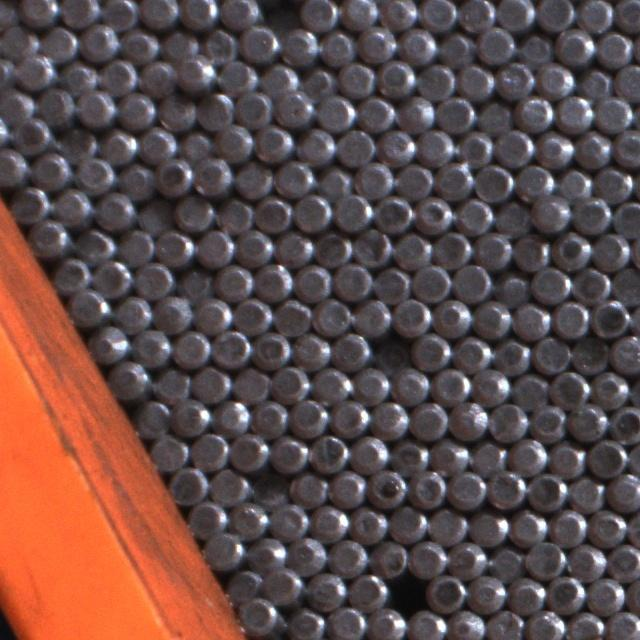tool: (30, 147, 72, 189), (236, 595, 279, 636), (27, 215, 69, 256), (52, 185, 93, 226), (108, 359, 149, 400), (366, 466, 406, 507), (8, 182, 48, 223), (332, 190, 372, 230), (387, 503, 427, 543), (354, 158, 394, 198), (94, 190, 134, 230), (228, 430, 268, 470), (75, 86, 115, 126), (425, 572, 465, 612), (524, 538, 564, 578), (50, 254, 90, 294), (131, 326, 171, 366), (238, 22, 278, 62), (130, 397, 170, 437), (168, 464, 208, 504), (88, 323, 128, 363), (308, 433, 348, 472), (486, 468, 525, 508), (428, 506, 467, 546), (234, 158, 273, 198), (211, 328, 250, 368), (157, 92, 196, 132), (328, 536, 367, 576), (311, 364, 350, 404), (134, 258, 173, 298), (252, 328, 291, 368), (529, 402, 568, 442), (151, 364, 190, 404), (306, 570, 345, 610), (75, 154, 115, 193), (452, 261, 491, 301), (408, 538, 447, 578), (233, 295, 273, 334), (253, 192, 292, 232), (586, 438, 626, 477), (289, 396, 328, 436), (586, 574, 625, 614), (408, 468, 447, 508), (116, 89, 155, 129), (329, 396, 369, 435), (332, 260, 372, 299), (526, 470, 565, 510), (432, 228, 472, 267), (189, 430, 228, 470), (253, 260, 292, 300), (530, 192, 570, 231), (112, 292, 151, 332), (488, 401, 528, 440), (292, 330, 331, 370), (352, 228, 391, 268), (376, 58, 415, 98), (431, 296, 470, 336), (446, 539, 486, 578), (392, 295, 431, 335), (269, 433, 308, 473), (571, 194, 611, 233), (373, 192, 412, 232), (570, 335, 609, 375), (193, 156, 233, 195), (74, 226, 114, 265), (447, 468, 486, 508), (295, 126, 334, 166), (551, 297, 590, 337), (369, 538, 408, 578), (194, 227, 233, 267), (170, 396, 210, 435), (358, 22, 397, 62), (192, 295, 232, 334), (153, 292, 192, 332), (347, 571, 387, 610), (217, 56, 256, 96), (185, 498, 225, 537), (174, 192, 213, 232), (263, 565, 302, 605), (79, 21, 119, 60), (70, 287, 110, 326), (274, 87, 314, 126), (572, 265, 612, 304), (550, 368, 590, 407), (14, 114, 54, 153), (253, 473, 292, 513), (412, 331, 451, 370), (432, 365, 471, 404), (508, 507, 547, 546), (591, 231, 630, 270), (315, 92, 354, 131), (352, 363, 391, 402), (554, 26, 593, 65), (332, 330, 371, 369), (292, 191, 331, 230), (437, 93, 476, 132), (349, 433, 388, 472), (551, 230, 590, 269), (476, 25, 515, 64), (209, 467, 248, 506), (336, 127, 375, 166), (534, 129, 573, 168), (554, 92, 593, 131), (270, 363, 309, 402), (352, 296, 391, 335), (279, 27, 318, 66), (287, 535, 326, 574), (250, 397, 289, 436), (473, 162, 512, 201), (370, 399, 409, 438), (148, 432, 187, 471), (472, 299, 511, 338), (191, 363, 230, 402), (468, 437, 507, 476), (414, 194, 453, 233), (493, 128, 532, 167), (449, 400, 488, 439), (116, 160, 155, 199), (36, 85, 75, 124), (154, 227, 193, 266), (590, 299, 629, 338), (394, 160, 433, 199), (38, 23, 77, 62), (389, 436, 428, 475), (530, 264, 570, 302), (508, 436, 548, 474), (273, 158, 313, 196), (468, 508, 506, 548), (172, 328, 210, 368), (391, 364, 429, 404), (204, 530, 242, 570), (175, 53, 215, 91), (196, 90, 234, 130), (428, 437, 468, 475), (253, 122, 293, 160), (547, 438, 585, 478), (92, 258, 132, 296), (567, 540, 605, 580), (417, 60, 455, 100), (58, 123, 98, 161), (511, 231, 550, 269), (337, 58, 375, 97), (532, 334, 571, 372), (594, 93, 632, 132), (514, 162, 552, 201), (548, 508, 587, 546), (591, 369, 629, 408), (594, 29, 632, 68), (312, 296, 351, 334), (467, 572, 505, 611), (356, 93, 395, 131), (328, 468, 366, 507), (377, 126, 416, 164), (452, 333, 491, 371), (535, 59, 573, 98), (473, 230, 512, 268), (434, 160, 472, 199), (416, 127, 454, 166), (234, 226, 272, 265), (409, 400, 448, 438), (232, 364, 270, 403), (472, 366, 511, 404), (392, 231, 431, 269), (274, 296, 312, 335), (594, 163, 632, 202), (214, 195, 253, 233), (398, 26, 436, 65), (214, 261, 252, 300), (548, 573, 586, 612), (314, 229, 352, 268), (98, 56, 136, 95), (506, 575, 545, 613), (348, 504, 386, 543), (97, 127, 136, 165), (318, 28, 356, 67), (568, 402, 606, 441), (455, 128, 494, 166), (199, 27, 237, 66), (396, 93, 434, 132), (229, 498, 268, 536), (259, 62, 298, 100), (269, 501, 308, 539), (292, 261, 330, 300), (574, 64, 613, 102), (314, 162, 352, 201), (492, 335, 530, 374), (371, 264, 410, 302), (247, 532, 286, 570), (16, 50, 55, 88), (387, 572, 426, 610), (588, 508, 626, 546), (436, 28, 474, 66), (515, 92, 553, 130), (234, 88, 272, 126), (412, 262, 450, 300), (568, 473, 606, 511), (456, 61, 494, 99), (290, 468, 328, 506), (496, 60, 534, 98), (574, 130, 612, 168), (212, 396, 250, 434), (155, 157, 193, 195), (554, 165, 592, 203), (274, 228, 312, 266), (455, 195, 493, 233), (515, 29, 553, 67), (511, 301, 549, 339), (309, 502, 347, 540), (486, 543, 524, 581), (475, 97, 513, 135), (492, 268, 530, 306), (138, 126, 176, 164), (214, 122, 252, 160), (120, 26, 158, 64), (175, 264, 213, 302), (298, 63, 336, 101), (371, 334, 409, 372), (283, 604, 323, 640), (138, 58, 175, 96), (512, 371, 550, 408), (160, 28, 198, 65), (223, 565, 261, 602), (326, 604, 365, 640), (177, 127, 214, 164), (493, 198, 530, 235), (136, 198, 173, 235), (58, 58, 96, 94), (116, 226, 152, 264), (366, 605, 405, 640), (0, 24, 37, 60), (607, 470, 640, 510), (607, 541, 640, 580), (608, 404, 640, 444), (0, 84, 33, 122), (407, 608, 446, 640), (446, 609, 486, 640), (298, 0, 338, 31), (486, 608, 524, 640), (536, 0, 575, 31), (219, 0, 260, 29), (576, 0, 613, 32), (418, 0, 456, 31), (526, 609, 564, 640), (456, 0, 494, 31), (565, 610, 604, 640), (100, 0, 139, 30), (262, 0, 301, 30), (495, 0, 533, 30), (340, 0, 378, 30), (611, 333, 640, 372), (611, 266, 640, 305), (379, 0, 418, 29), (178, 0, 218, 28), (139, 0, 178, 28), (0, 146, 27, 186), (606, 609, 640, 640), (613, 198, 640, 237), (58, 0, 98, 26), (613, 128, 640, 166), (19, 0, 58, 26), (614, 62, 640, 100), (614, 0, 640, 31), (0, 0, 19, 30)
